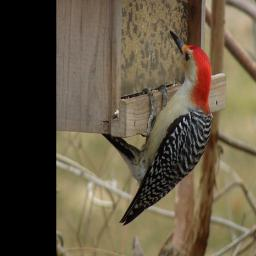Woodpecker: (109, 29, 217, 219)
